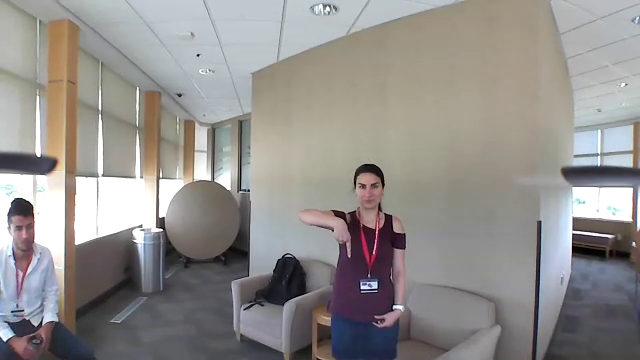down: (330, 214, 359, 266)
